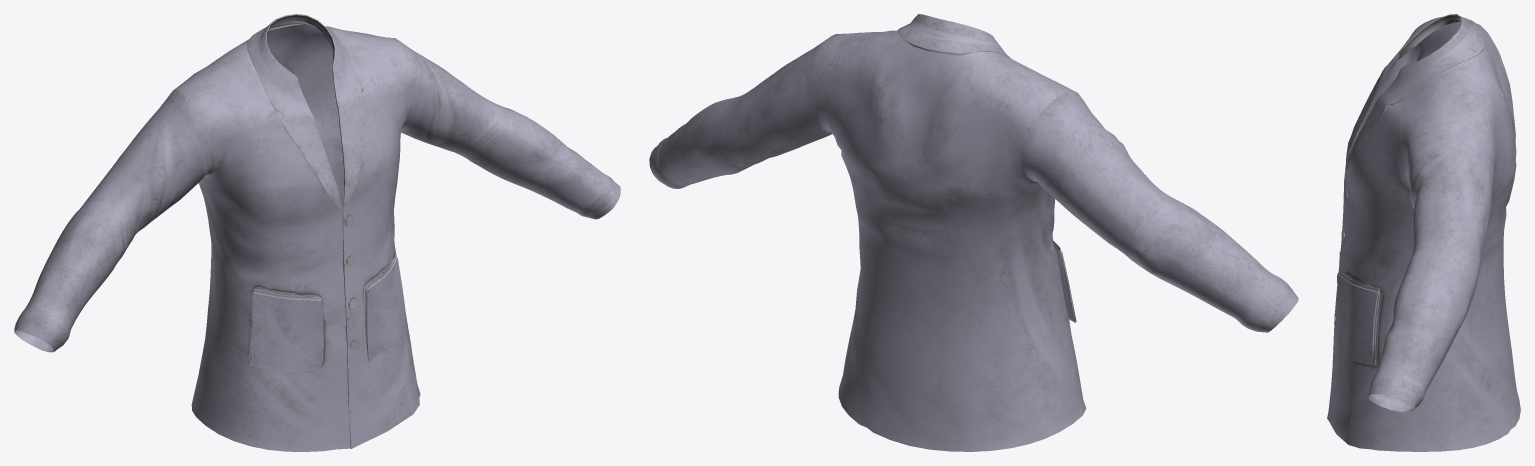
3 views of the same model, side by side, from view 1: azimuth 30°, elevation 25°; view 2: azimuth 150°, elevation 25°; view 3: azimuth 270°, elevation 25° (orthographic). The views are drawn at different scales.
Parts seen in each view (by area): view 1: Object_2; view 2: Object_2; view 3: Object_2.
Part boxes in pixels (x1,y1,x2,y2): Object_2: [14, 14, 620, 451]; Object_2: [649, 14, 1298, 451]; Object_2: [1327, 14, 1520, 451].
Size of the model in its own units: 5.54 by 3.41 by 1.51.
1 material, 1 textured.
